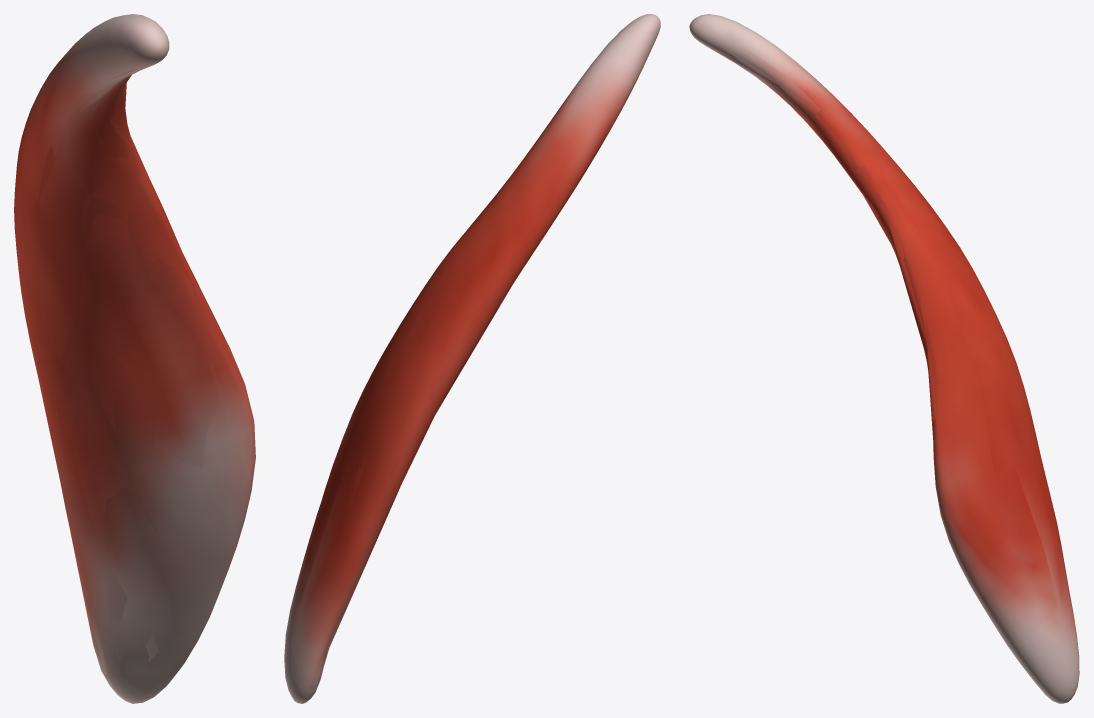
File: R Popliteus.fbx
The picture shows the model from 3 angles, left to right: view 1: azimuth 30°, elevation 25°; view 2: azimuth 150°, elevation 25°; view 3: azimuth 270°, elevation 25°; orthographic projection. The views are drawn at different scales.
Parts seen in each view (by area): view 1: R Popliteus, R Popliteus low; view 2: R Popliteus, R Popliteus low; view 3: R Popliteus, R Popliteus low.
Boxes of the visible parts, <box> form: R Popliteus: <box>14,14,255,703</box>; R Popliteus low: <box>21,35,244,675</box>; R Popliteus: <box>284,14,660,703</box>; R Popliteus low: <box>292,145,534,693</box>; R Popliteus: <box>689,14,1079,703</box>; R Popliteus low: <box>693,23,1079,699</box>.
Size of the model in its own units: 7.94 by 21.76 by 12.75.
